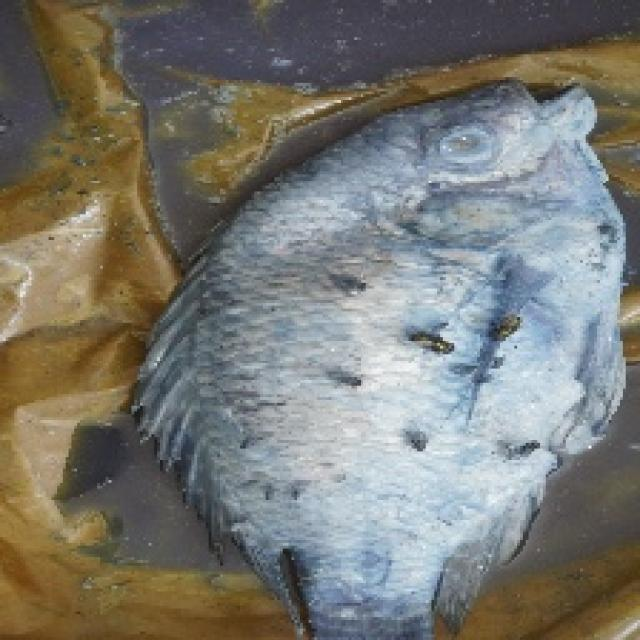Non-Fresh: (256, 72, 627, 637), (428, 110, 504, 182)
